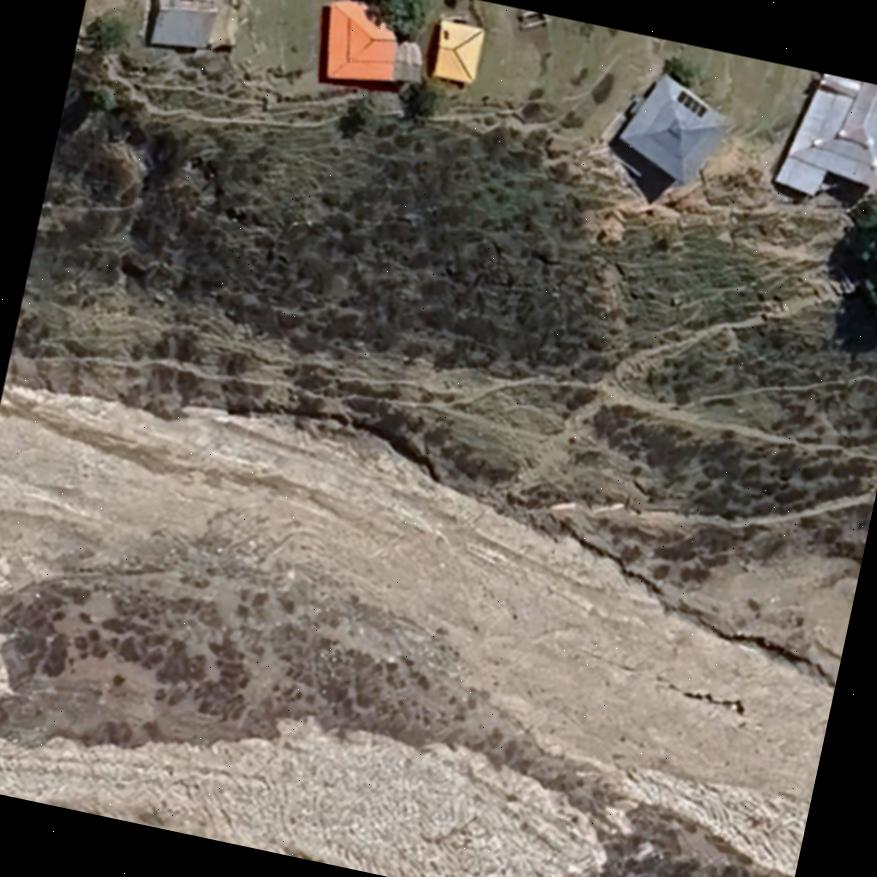Solarpanel: (671, 86, 711, 120)
